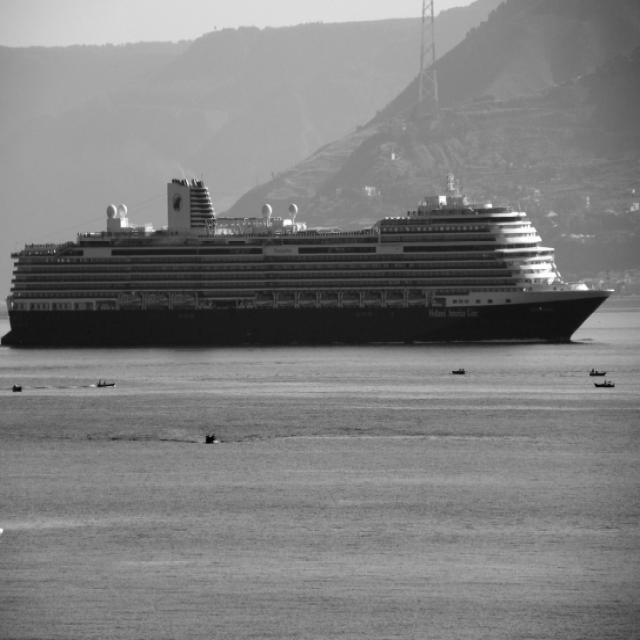cruises: (1, 174, 618, 352)
